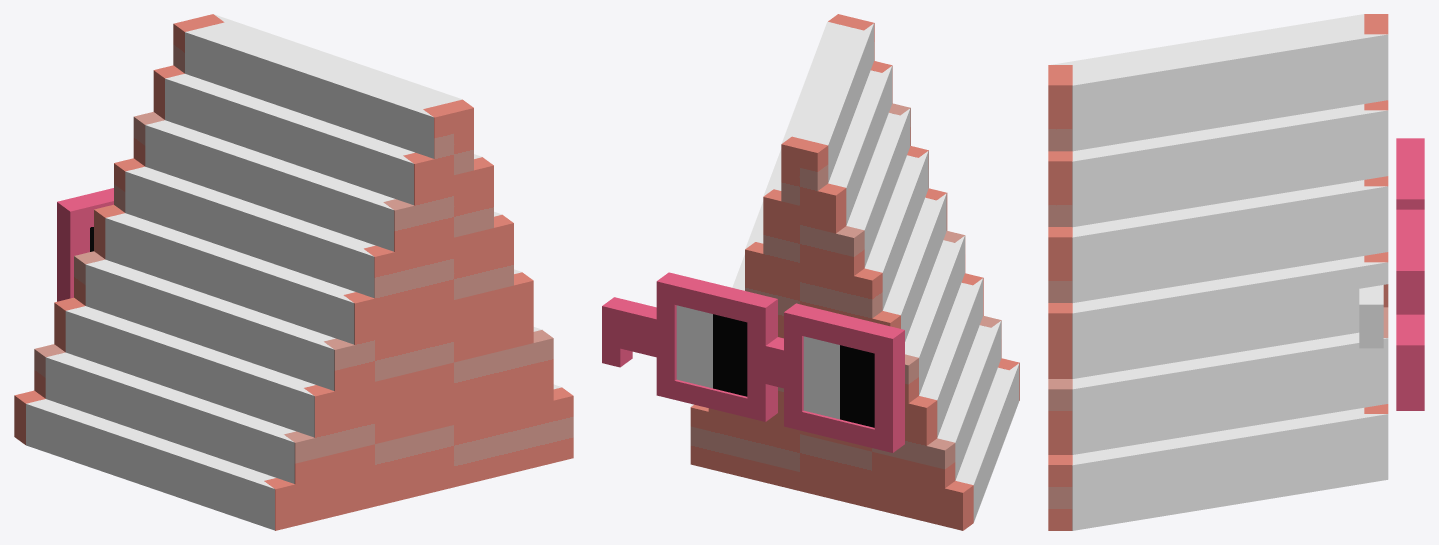
File: blender-v1.glb
3 views of the same model, side by side, from view 1: azimuth 30°, elevation 25°; view 2: azimuth 150°, elevation 25°; view 3: azimuth 270°, elevation 25° (orthographic). The views are drawn at different scales.
Visible parts, largest first — view 1: side-left-1-Local, back-Local, l1-Local, back-top-Local, layer-2-Local; view 2: side-left-1-Local, layer-2-Local, l1-Local, l1-bottom-Local, back-top-Local; view 3: side-left-1-Local, back-Local, layer-2-Local, back-top-Local, l1-Local, eyes-Local.
Boxes of the visible parts, x1=… form: side-left-1-Local: x1=26, y1=14, x2=561, y2=530; back-Local: x1=275, y1=108, x2=573, y2=530; l1-Local: x1=14, y1=14, x2=224, y2=444; back-top-Local: x1=264, y1=99, x2=572, y2=509; layer-2-Local: x1=57, y1=188, x2=113, y2=301; side-left-1-Local: x1=691, y1=21, x2=1019, y2=522; layer-2-Local: x1=602, y1=272, x2=904, y2=452; l1-Local: x1=690, y1=136, x2=973, y2=523; l1-bottom-Local: x1=690, y1=448, x2=973, y2=530; back-top-Local: x1=828, y1=14, x2=1019, y2=381; side-left-1-Local: x1=1051, y1=14, x2=1388, y2=530; back-Local: x1=1048, y1=85, x2=1072, y2=530; layer-2-Local: x1=1396, y1=138, x2=1424, y2=410; back-top-Local: x1=1048, y1=65, x2=1072, y2=486; l1-Local: x1=1364, y1=14, x2=1388, y2=413; eyes-Local: x1=1359, y1=285, x2=1383, y2=348.
Size of the model in its own units: 20.02 by 18 by 15.57.
Materials: 24 (24 with a texture image).
